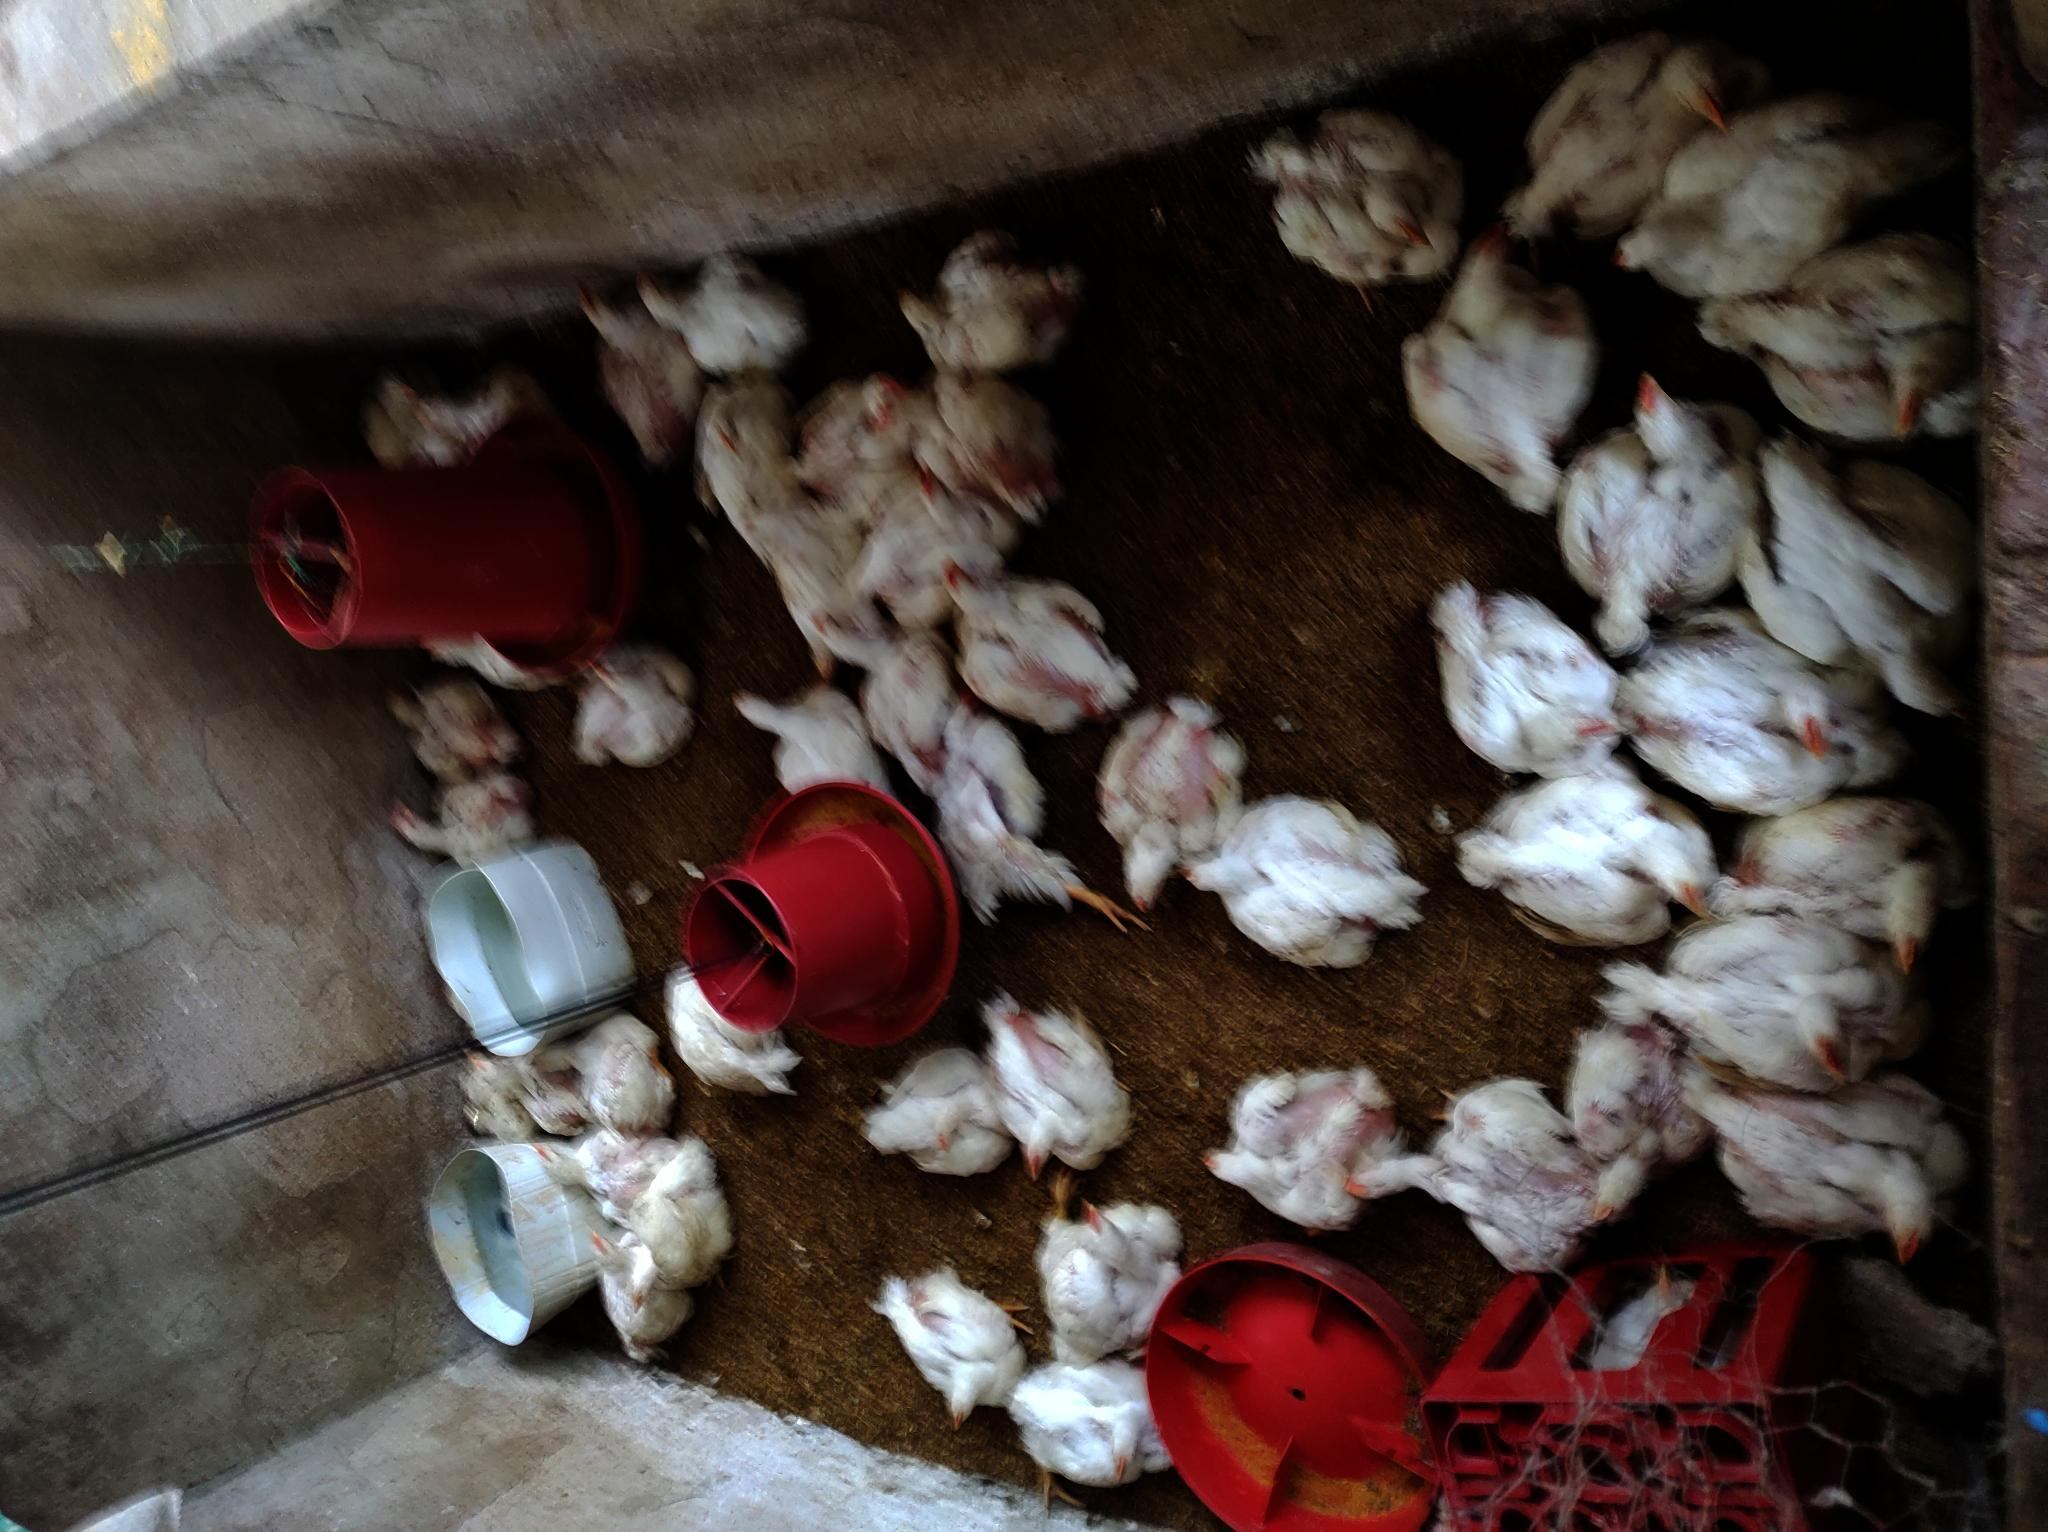Pollos: (1731, 417, 1979, 723), (1689, 1044, 1976, 1276), (1614, 594, 1897, 809), (1700, 224, 1968, 452), (1327, 1062, 1593, 1287), (1601, 92, 1865, 309), (1556, 365, 1750, 649), (1396, 240, 1598, 507), (1617, 892, 1906, 1077), (1511, 11, 1742, 240), (1726, 792, 1992, 980), (1459, 756, 1717, 941), (1170, 789, 1421, 974), (1244, 95, 1470, 298), (1427, 570, 1631, 780), (1195, 1052, 1408, 1239), (922, 541, 1133, 727), (1557, 995, 1715, 1220), (1096, 686, 1240, 917), (977, 995, 1150, 1184), (899, 702, 1068, 887), (869, 1266, 1038, 1442), (883, 227, 1075, 381), (994, 1349, 1179, 1498), (911, 370, 1076, 518), (542, 631, 711, 776), (780, 357, 936, 513), (1044, 1170, 1176, 1352), (787, 595, 948, 743), (565, 283, 698, 452), (627, 256, 808, 377), (655, 966, 804, 1106), (729, 666, 883, 801), (862, 1048, 1017, 1181), (840, 491, 1001, 602), (627, 1143, 721, 1326), (396, 760, 528, 887), (668, 396, 800, 518), (576, 1231, 689, 1369), (378, 679, 524, 776), (533, 1004, 664, 1110), (370, 373, 520, 457), (520, 1130, 661, 1205), (467, 1056, 565, 1123)
